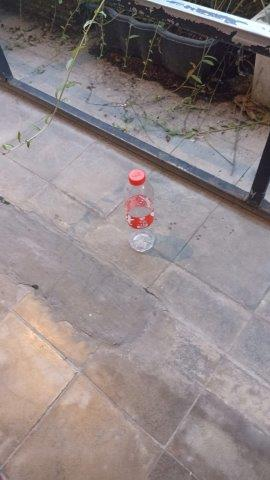botolplastik: (126, 171, 156, 253)
